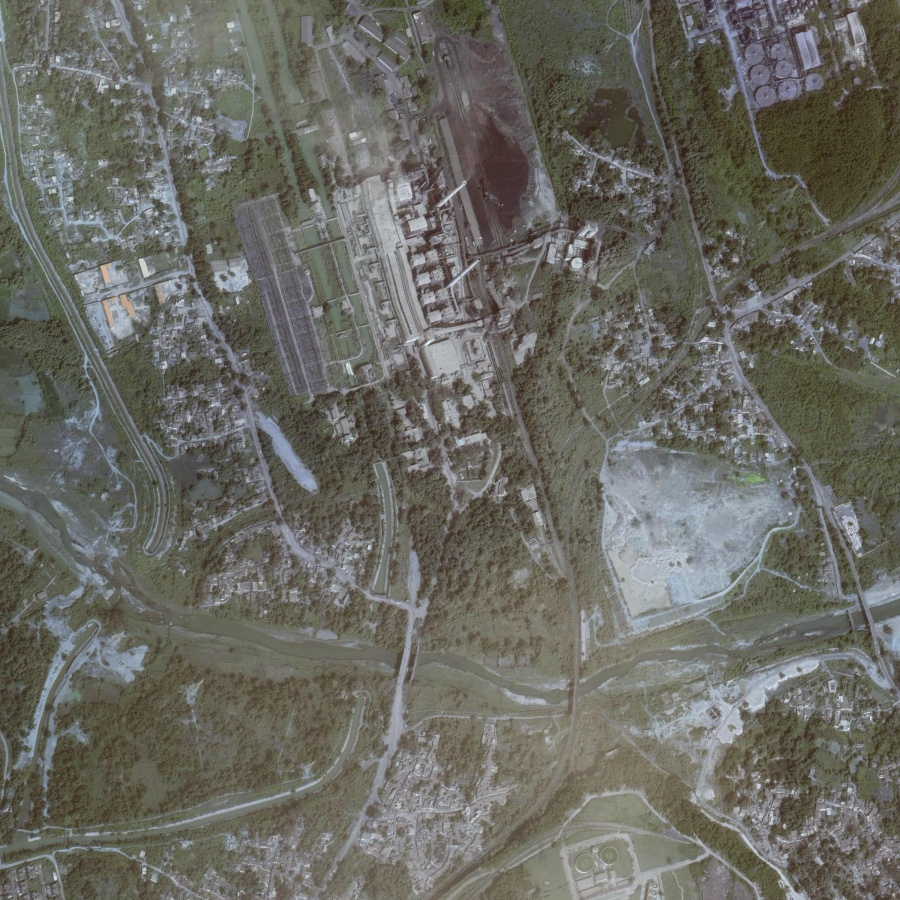PowerPlant: (342, 25, 539, 322)
